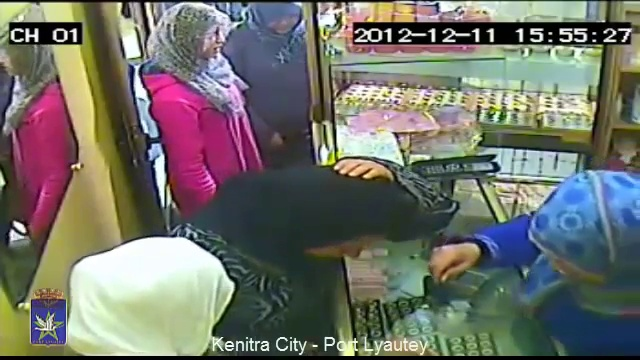face: (190, 18, 229, 61), (265, 11, 309, 40)
